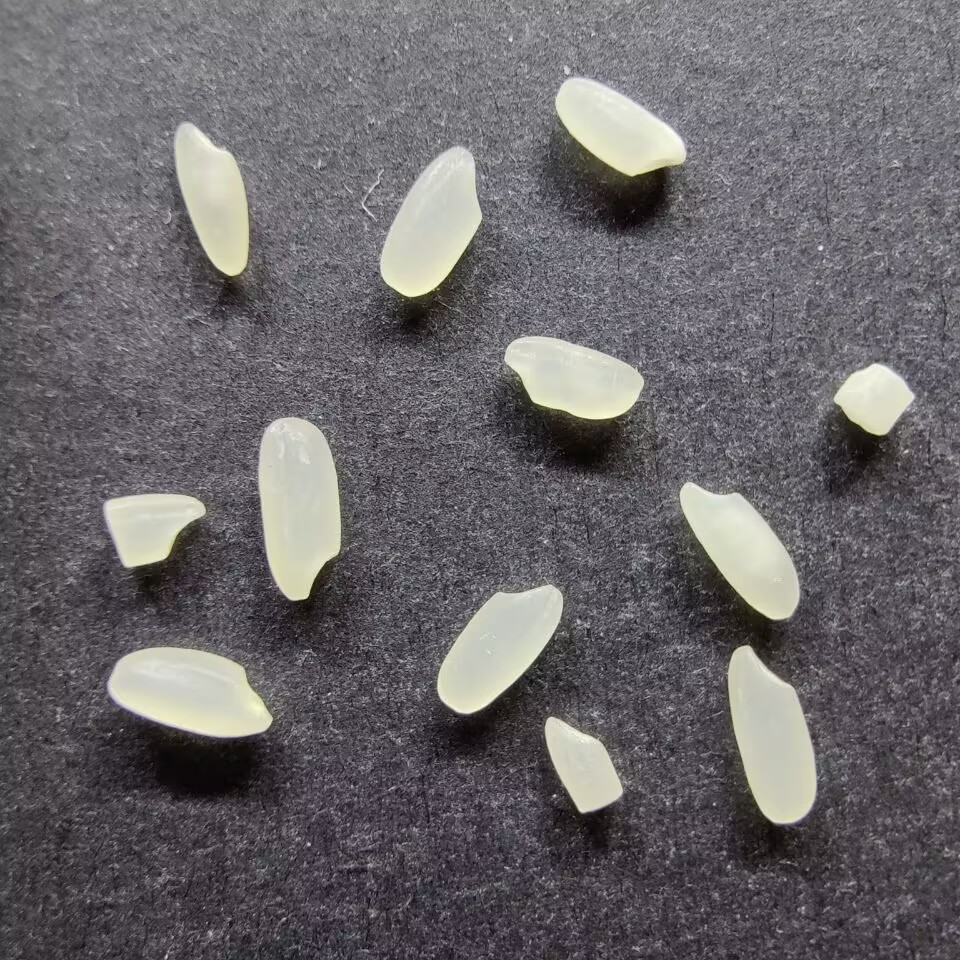broken: (543, 712, 625, 814), (101, 492, 208, 570), (834, 358, 916, 438)
rice: (434, 579, 564, 716), (678, 479, 801, 623), (725, 643, 821, 825), (376, 145, 483, 298), (255, 415, 342, 602), (105, 645, 273, 741), (553, 76, 687, 178), (169, 118, 252, 277), (503, 335, 648, 420)
